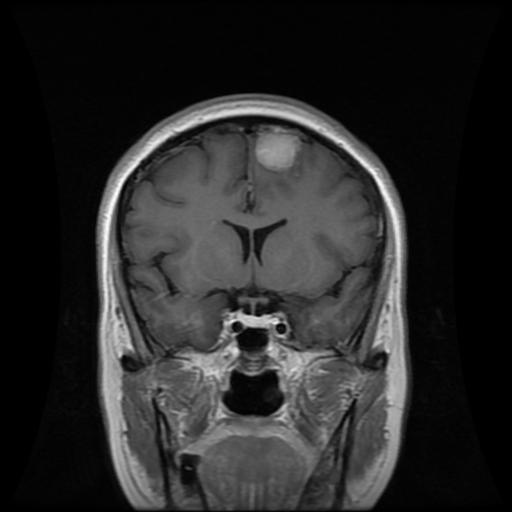Menigiomia_tumour: (256, 124, 301, 170)
